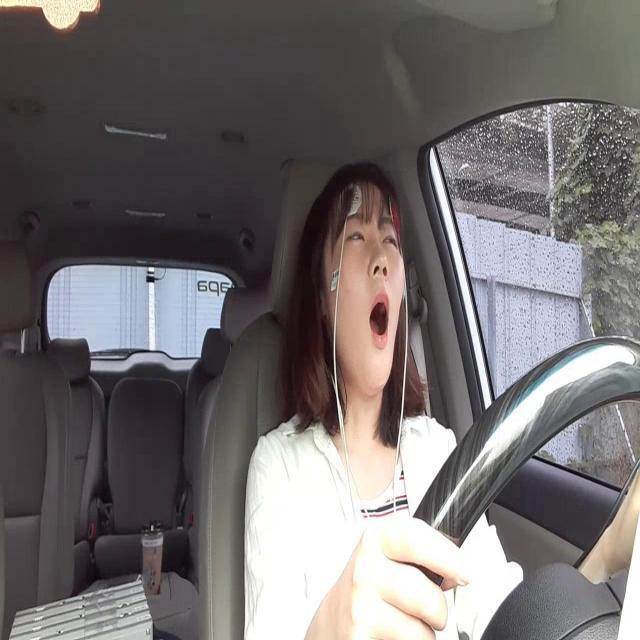Yawning: (366, 288, 395, 347)
